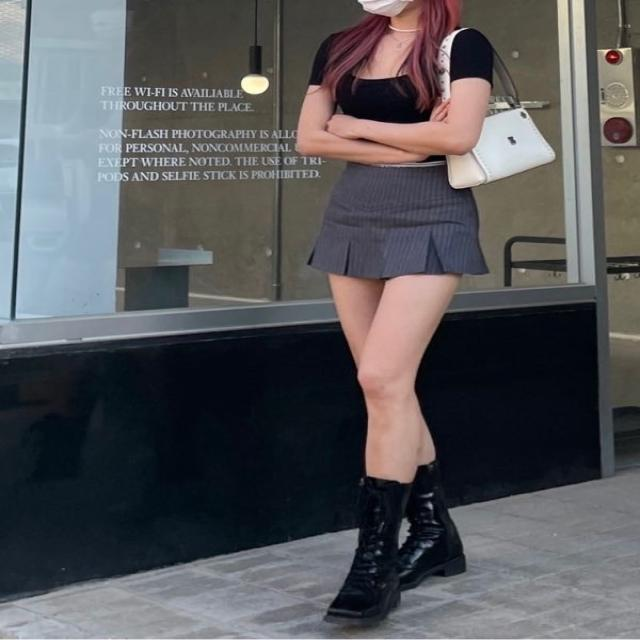shortsleeve: (304, 20, 490, 166)
skirt: (302, 157, 493, 280)
